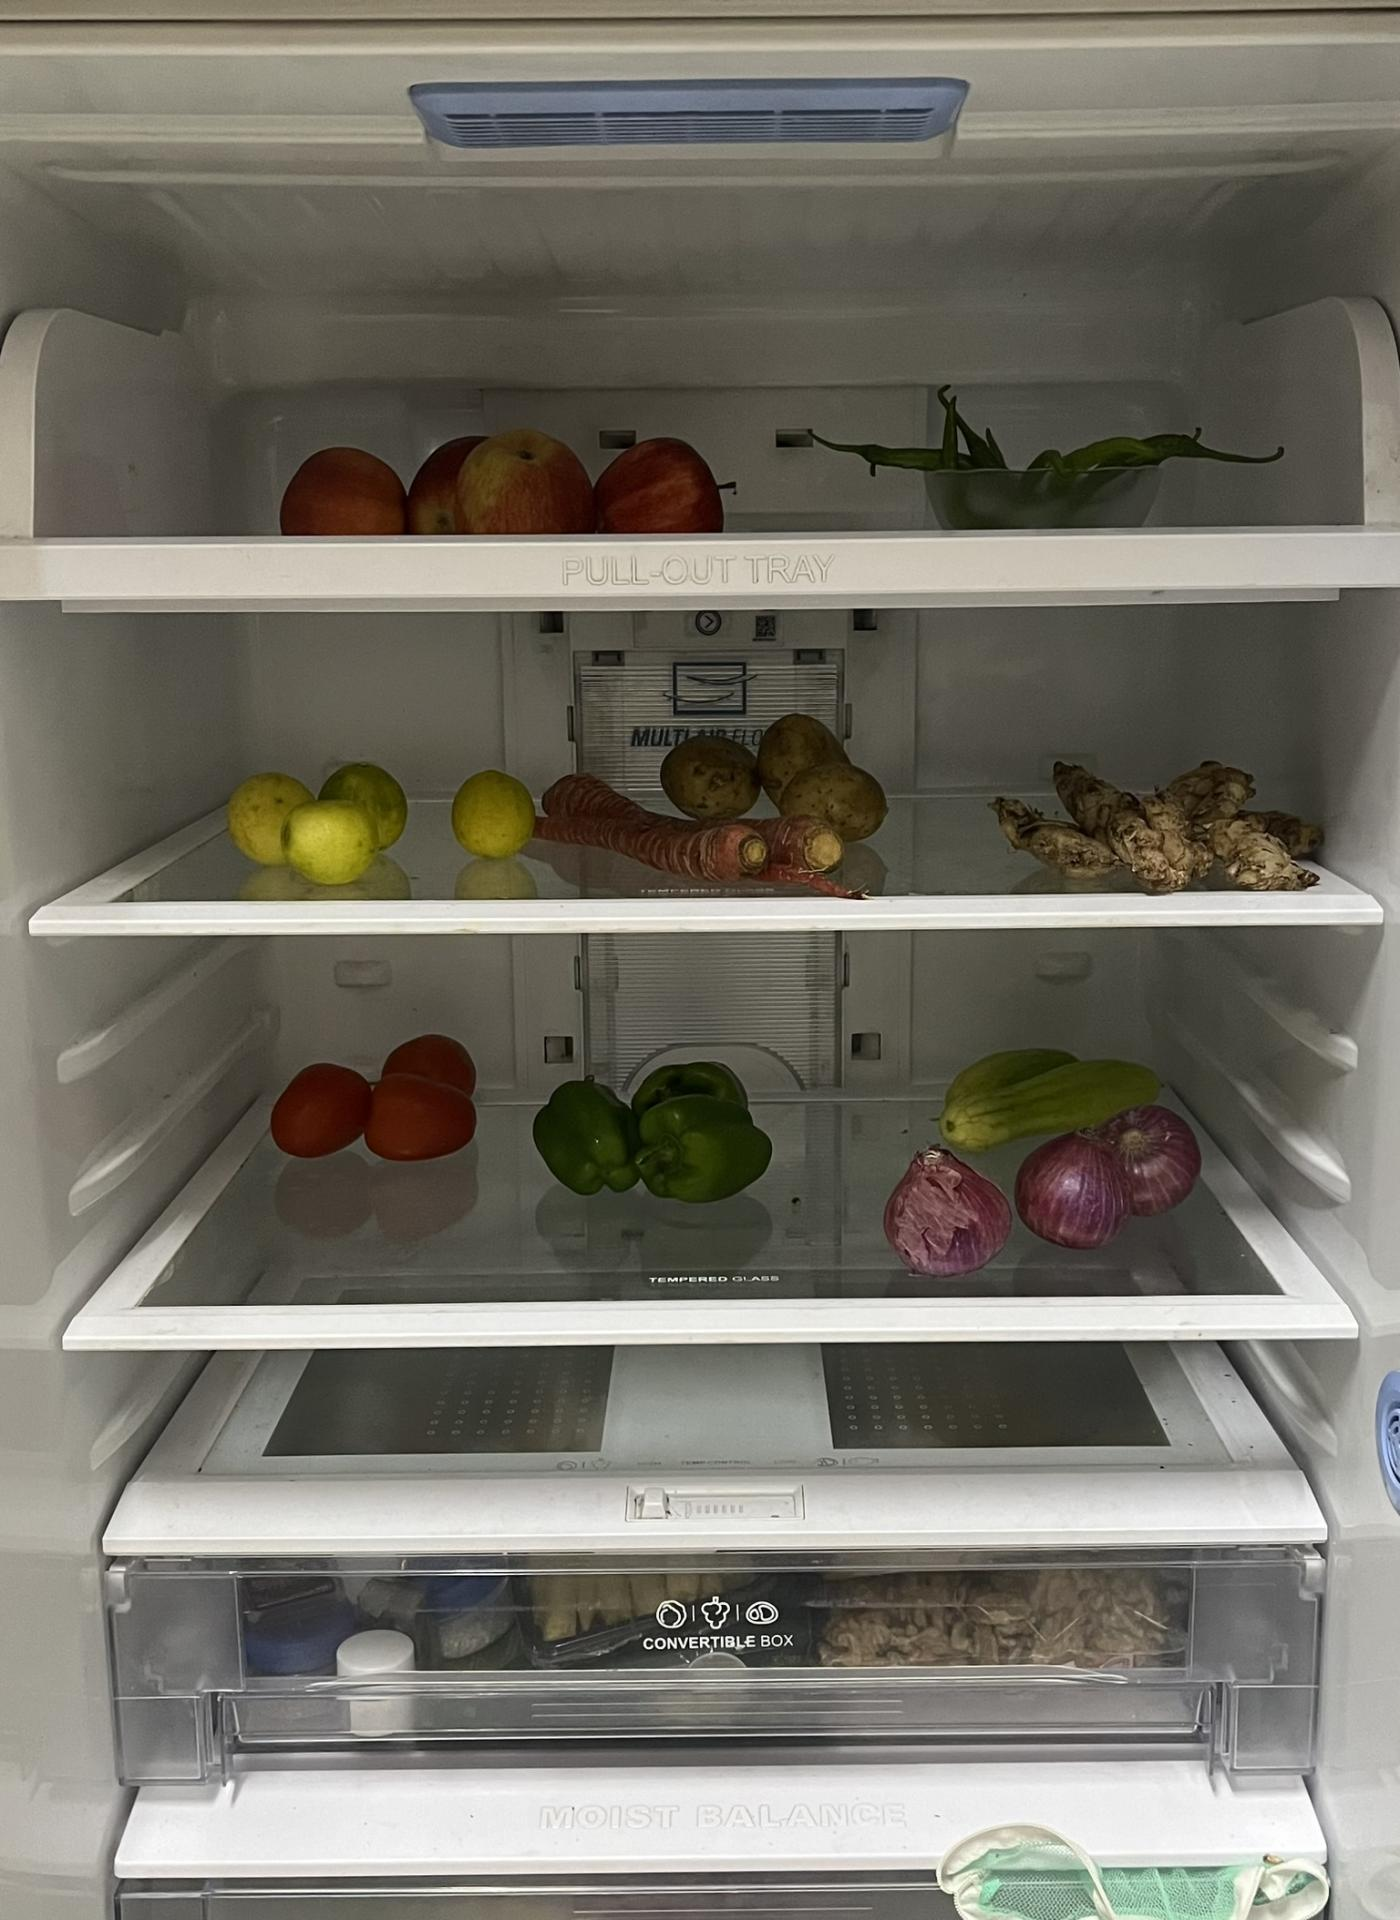apple: (255, 420, 726, 534)
capsicum: (537, 1060, 768, 1200)
carrots: (543, 775, 881, 882)
chillies: (822, 389, 1257, 523)
cucumber: (944, 1046, 1176, 1148)
ginger: (994, 759, 1327, 894)
lemon: (225, 756, 414, 880), (446, 762, 541, 865)
onion: (898, 1102, 1205, 1270)
potato: (666, 719, 893, 821)
tomato: (274, 1029, 485, 1164)
